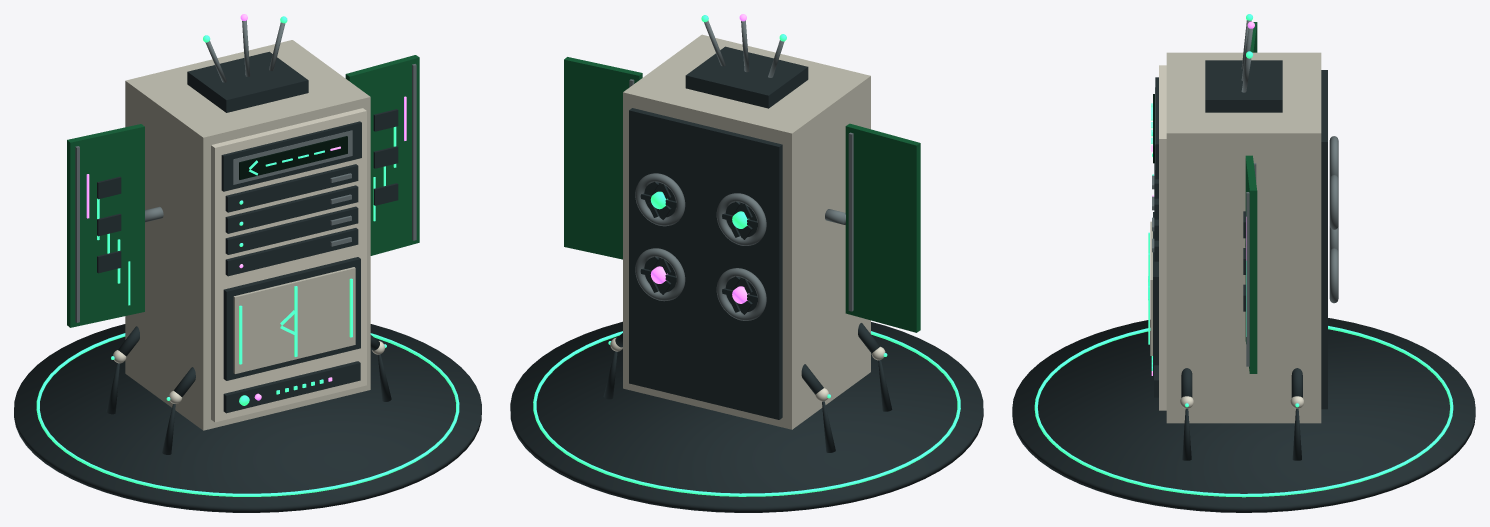
File: Nave_Server.glb
3 renders of one model, left to right at view 1: azimuth 30°, elevation 25°; view 2: azimuth 150°, elevation 25°; view 3: azimuth 270°, elevation 25°, orthographic. The views are drawn at different scales.
Parts seen in each view (by area): view 1: BASE_PRESENTACION, SERVIDOR_CUERPO_PRINCIPAL, SERVIDOR_PANEL_FRONTAL, PANEL_PLACA_MADRE_-1, HANGAR_BYTE_PUERTA, PANEL_PLACA_MADRE_1, MODULO_COMUNICACIONES, HANGAR_BYTE_MARCO, BASE_ANILLO, PANEL_CONTROLES_INFERIOR, SERVIDOR_CABECERA, BAHIA_SERVIDOR_0 (+7 smaller); view 2: BASE_PRESENTACION, SERVIDOR_PANEL_TRASERO, SERVIDOR_CUERPO_PRINCIPAL, PANEL_PLACA_MADRE_-1, PANEL_PLACA_MADRE_1, MODULO_COMUNICACIONES, BASE_ANILLO, MOTOR_1_ARO, MOTOR_0_ARO, MOTOR_3_ARO, MOTOR_2_ARO, PANEL_-1_MARCO_X_0.93; view 3: BASE_PRESENTACION, SERVIDOR_CUERPO_PRINCIPAL, MODULO_COMUNICACIONES, BASE_ANILLO, SERVIDOR_PANEL_FRONTAL, SERVIDOR_PANEL_TRASERO, PANEL_PLACA_MADRE_1, PANEL_1_MARCO_X_0.93, HANGAR_BYTE_MARCO, MOTOR_3_ARO, MOTOR_1_ARO.
Boxes of the visible parts, x1=… form: BASE_PRESENTACION: x1=14, y1=324, x2=481, y2=512; SERVIDOR_CUERPO_PRINCIPAL: x1=125, y1=40, x2=370, y2=430; SERVIDOR_PANEL_FRONTAL: x1=211, y1=108, x2=366, y2=422; PANEL_PLACA_MADRE_-1: x1=67, y1=124, x2=144, y2=327; HANGAR_BYTE_PUERTA: x1=233, y1=267, x2=355, y2=373; PANEL_PLACA_MADRE_1: x1=345, y1=55, x2=419, y2=255; MODULO_COMUNICACIONES: x1=187, y1=51, x2=308, y2=112; HANGAR_BYTE_MARCO: x1=223, y1=257, x2=360, y2=380; BASE_ANILLO: x1=36, y1=333, x2=459, y2=496; PANEL_CONTROLES_INFERIOR: x1=223, y1=361, x2=360, y2=413; SERVIDOR_CABECERA: x1=221, y1=121, x2=361, y2=191; BAHIA_SERVIDOR_0: x1=225, y1=164, x2=358, y2=212; BASE_PRESENTACION: x1=510, y1=321, x2=983, y2=512; SERVIDOR_PANEL_TRASERO: x1=629, y1=108, x2=782, y2=419; SERVIDOR_CUERPO_PRINCIPAL: x1=623, y1=34, x2=870, y2=429; PANEL_PLACA_MADRE_-1: x1=845, y1=123, x2=920, y2=332; PANEL_PLACA_MADRE_1: x1=564, y1=57, x2=642, y2=259; MODULO_COMUNICACIONES: x1=685, y1=46, x2=808, y2=108; BASE_ANILLO: x1=533, y1=331, x2=960, y2=496; MOTOR_1_ARO: x1=635, y1=173, x2=685, y2=226; MOTOR_0_ARO: x1=716, y1=193, x2=766, y2=245; MOTOR_3_ARO: x1=635, y1=248, x2=685, y2=301; MOTOR_2_ARO: x1=716, y1=268, x2=766, y2=320; PANEL_-1_MARCO_X_0.93: x1=848, y1=132, x2=853, y2=311; BASE_PRESENTACION: x1=1012, y1=318, x2=1475, y2=512; SERVIDOR_CUERPO_PRINCIPAL: x1=1166, y1=52, x2=1321, y2=423; MODULO_COMUNICACIONES: x1=1205, y1=60, x2=1282, y2=112; BASE_ANILLO: x1=1034, y1=326, x2=1453, y2=497; SERVIDOR_PANEL_FRONTAL: x1=1159, y1=65, x2=1166, y2=410; SERVIDOR_PANEL_TRASERO: x1=1321, y1=70, x2=1327, y2=409; PANEL_PLACA_MADRE_1: x1=1245, y1=155, x2=1257, y2=373; PANEL_1_MARCO_X_0.93: x1=1246, y1=192, x2=1249, y2=366; HANGAR_BYTE_MARCO: x1=1153, y1=212, x2=1158, y2=365; MOTOR_3_ARO: x1=1329, y1=248, x2=1338, y2=303; MOTOR_1_ARO: x1=1329, y1=175, x2=1338, y2=229.
Size of the model in its own units: 12.6 by 11.79 by 12.6.
